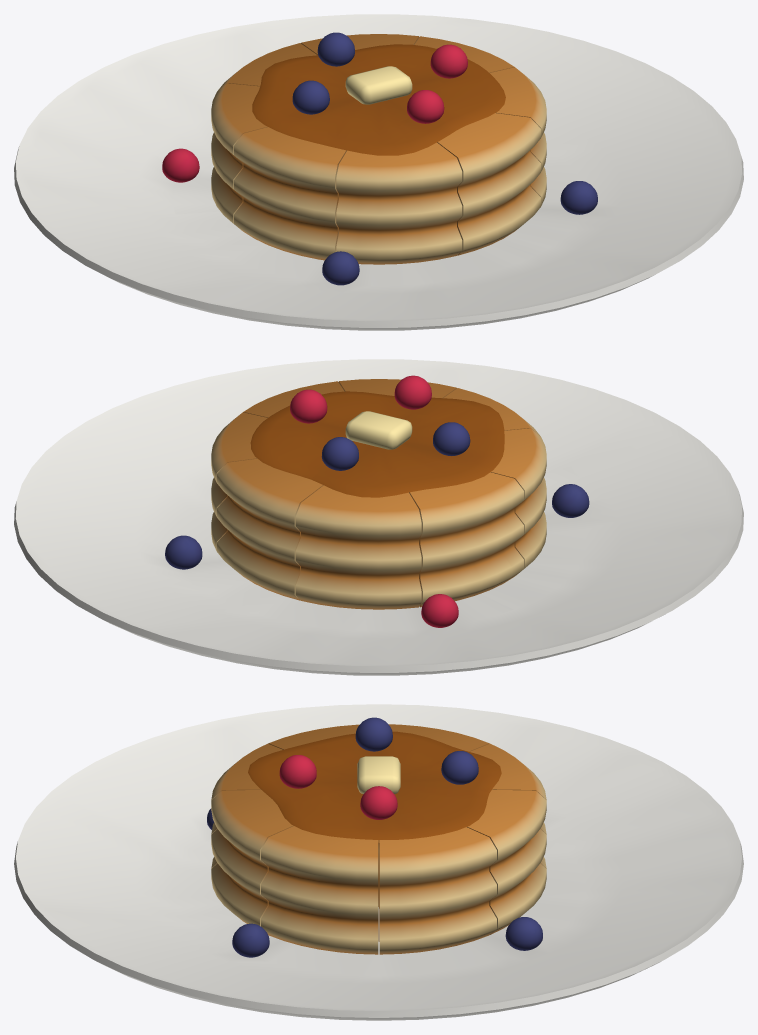
File: dish-ricotta-pancakes-lod0.glb
The picture shows the model from 3 angles, top to bottom: view 1: azimuth 30°, elevation 25°; view 2: azimuth 150°, elevation 25°; view 3: azimuth 270°, elevation 25°; orthographic projection.
Visible parts, largest first — view 1: ricotta-pancakes.lod0__table porcelain, ricotta-pancakes.lod0__food, ricotta-pancakes.lod0__food glaze; view 2: ricotta-pancakes.lod0__table porcelain, ricotta-pancakes.lod0__food, ricotta-pancakes.lod0__food glaze; view 3: ricotta-pancakes.lod0__table porcelain, ricotta-pancakes.lod0__food, ricotta-pancakes.lod0__food glaze.
Part boxes in pixels (left/top/right/bottom): ricotta-pancakes.lod0__table porcelain: left=14, top=14, right=743, bottom=330; ricotta-pancakes.lod0__food: left=211, top=34, right=546, bottom=264; ricotta-pancakes.lod0__food glaze: left=162, top=32, right=597, bottom=285; ricotta-pancakes.lod0__table porcelain: left=14, top=359, right=743, bottom=675; ricotta-pancakes.lod0__food: left=211, top=379, right=546, bottom=609; ricotta-pancakes.lod0__food glaze: left=165, top=375, right=589, bottom=627; ricotta-pancakes.lod0__table porcelain: left=14, top=704, right=743, bottom=1020; ricotta-pancakes.lod0__food: left=211, top=724, right=546, bottom=954; ricotta-pancakes.lod0__food glaze: left=207, top=717, right=542, bottom=957.
Size of the model in its own units: 0.27 by 0.066 by 0.27.
